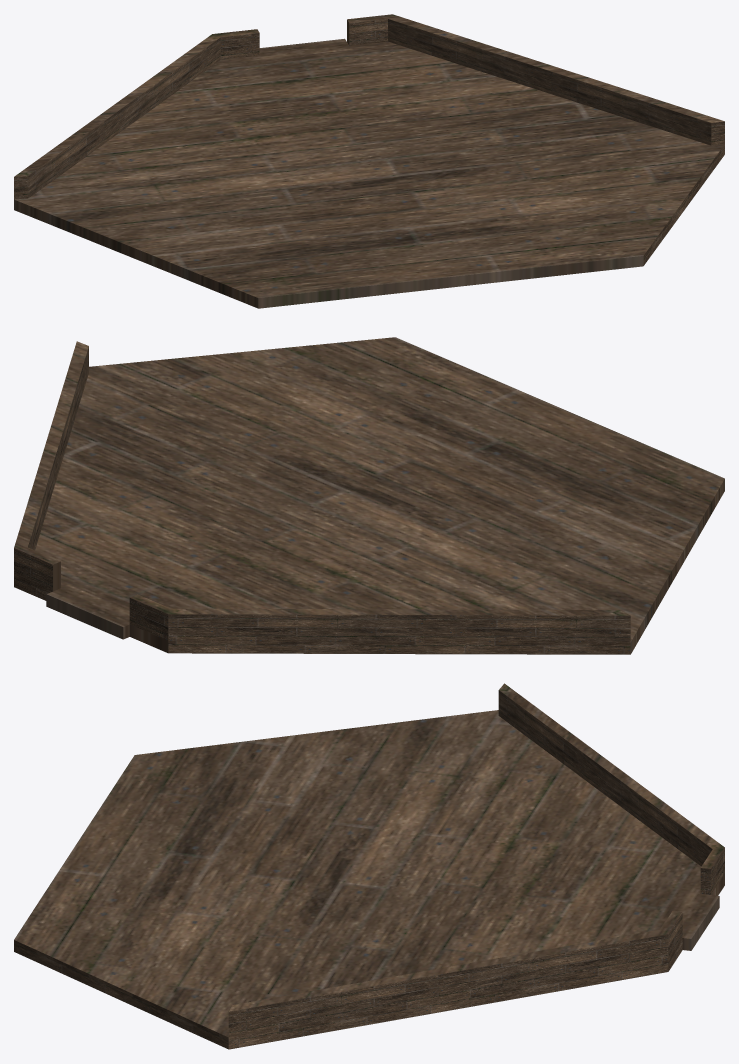
File: wood_platform.glb
3 views of the same model, one above another, from view 1: azimuth 30°, elevation 25°; view 2: azimuth 150°, elevation 25°; view 3: azimuth 270°, elevation 25° (orthographic). The views are drawn at different scales.
Visible parts, largest first — view 1: wood_platform.001; view 2: wood_platform.001; view 3: wood_platform.001.
Boxes of the visible parts, bbox=[...] form: wood_platform.001: bbox=[14, 14, 724, 308]; wood_platform.001: bbox=[14, 337, 724, 654]; wood_platform.001: bbox=[14, 683, 724, 1049].
Size of the model in its own units: 18.54 by 0.9977 by 16.97.
Materials: 1 (1 with a texture image).
